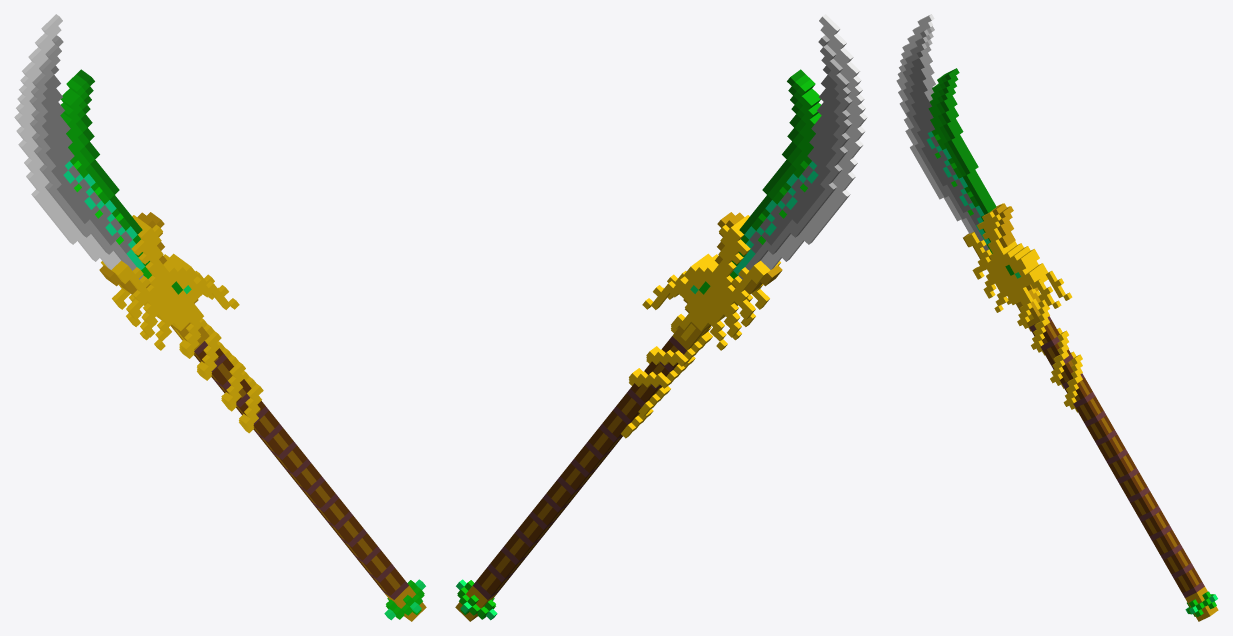
File: spear-lv2.glb
3 renders of one model, left to right at view 1: azimuth 30°, elevation 25°; view 2: azimuth 150°, elevation 25°; view 3: azimuth 330°, elevation 25°, orthographic. The views are drawn at different scales.
Parts seen in each view (by area): view 1: spear lv2; view 2: spear lv2; view 3: spear lv2.
Part boxes in pixels (box(x1,y1,x2,y2)): spear lv2: box(14, 14, 426, 621); spear lv2: box(455, 14, 867, 621); spear lv2: box(896, 14, 1218, 621).
Size of the model in its own units: 0.6694 by 1.08 by 0.07.
Materials: 1 (1 with a texture image).
